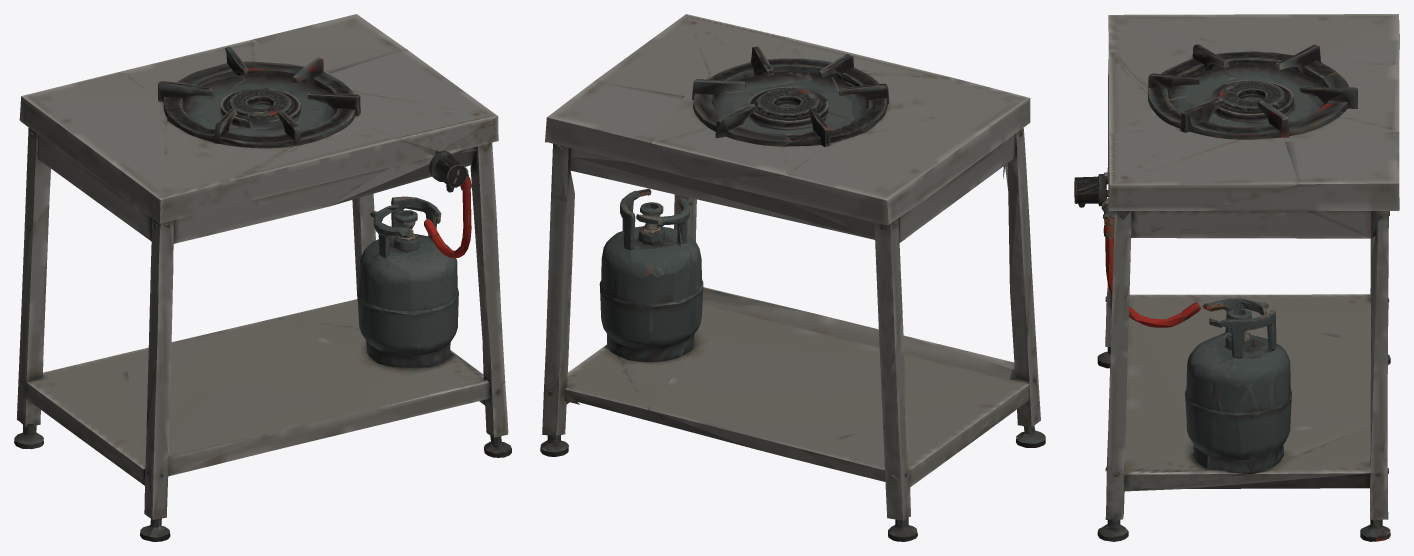
The model's file is burner-bench.glb.
3 views of the same model, side by side, from view 1: azimuth 30°, elevation 25°; view 2: azimuth 150°, elevation 25°; view 3: azimuth 270°, elevation 25° (orthographic). The views are drawn at different scales.
Size of the model in its own units: 1.9 by 1.75 by 1.4.
1 material, 1 textured.
